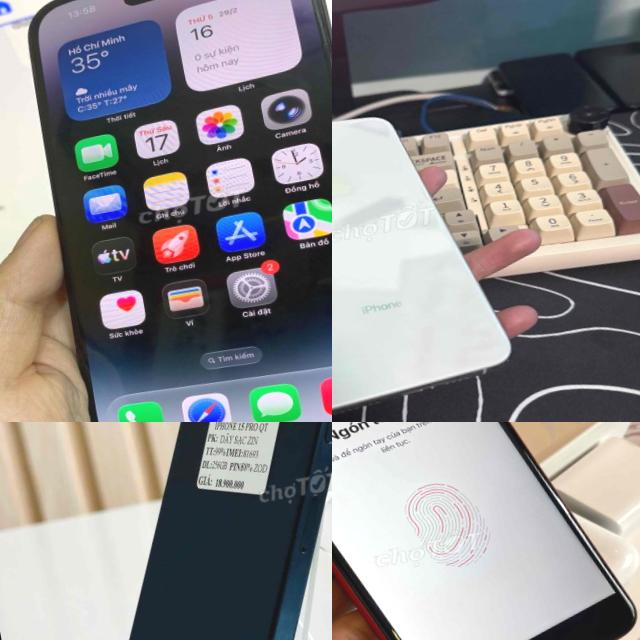gen_14: (3, 0, 332, 422)
gen_15: (43, 422, 332, 640)
gen_7_8: (332, 422, 640, 640)
gen_x_xs: (332, 85, 527, 422)
